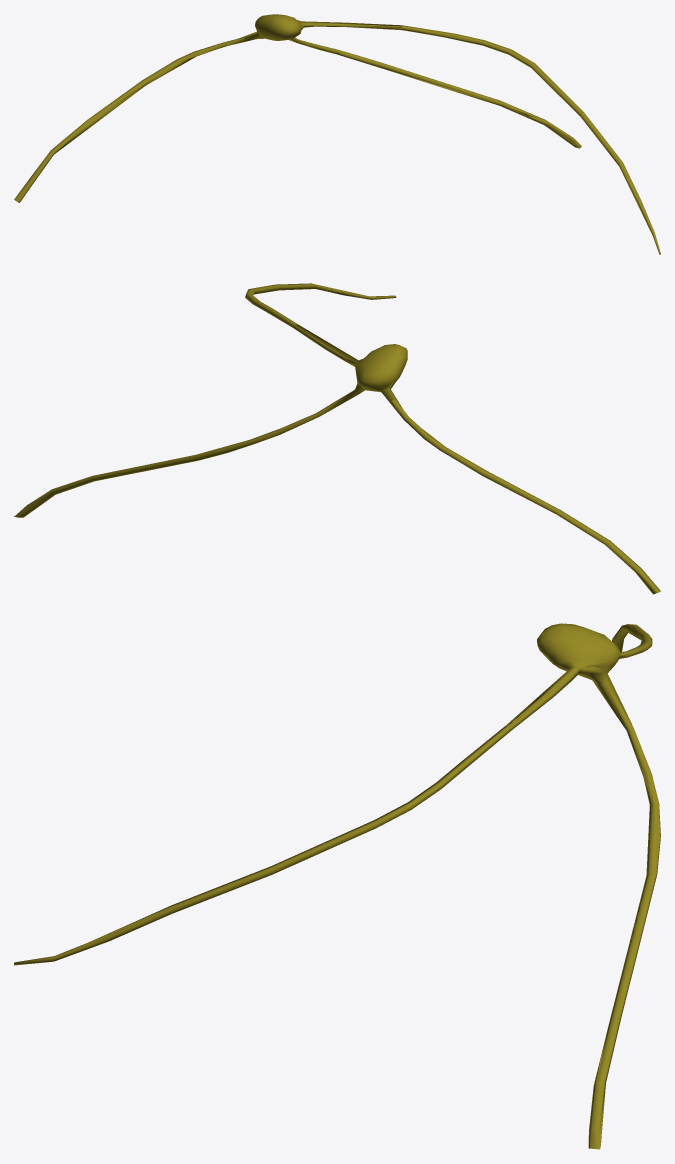
File: nodi lymphatici subrhomboideus.fbx
3 views of the same model, one above another, from view 1: azimuth 30°, elevation 25°; view 2: azimuth 150°, elevation 25°; view 3: azimuth 270°, elevation 25° (orthographic). The views are drawn at different scales.
Visible parts, largest first — view 1: nodi lymphatici subrhomboideus, nodi lymphatici subrhomboideus low; view 2: nodi lymphatici subrhomboideus, nodi lymphatici subrhomboideus low; view 3: nodi lymphatici subrhomboideus, nodi lymphatici subrhomboideus low.
Part boxes in pixels (left/top/right/bottom): nodi lymphatici subrhomboideus: left=14, top=14, right=660, bottom=254; nodi lymphatici subrhomboideus low: left=16, top=16, right=653, bottom=231; nodi lymphatici subrhomboideus: left=15, top=283, right=660, bottom=594; nodi lymphatici subrhomboideus low: left=14, top=284, right=659, bottom=593; nodi lymphatici subrhomboideus: left=14, top=623, right=660, bottom=1149; nodi lymphatici subrhomboideus low: left=57, top=623, right=658, bottom=1148.
Size of the model in its own units: 15.29 by 5.56 by 10.66.
